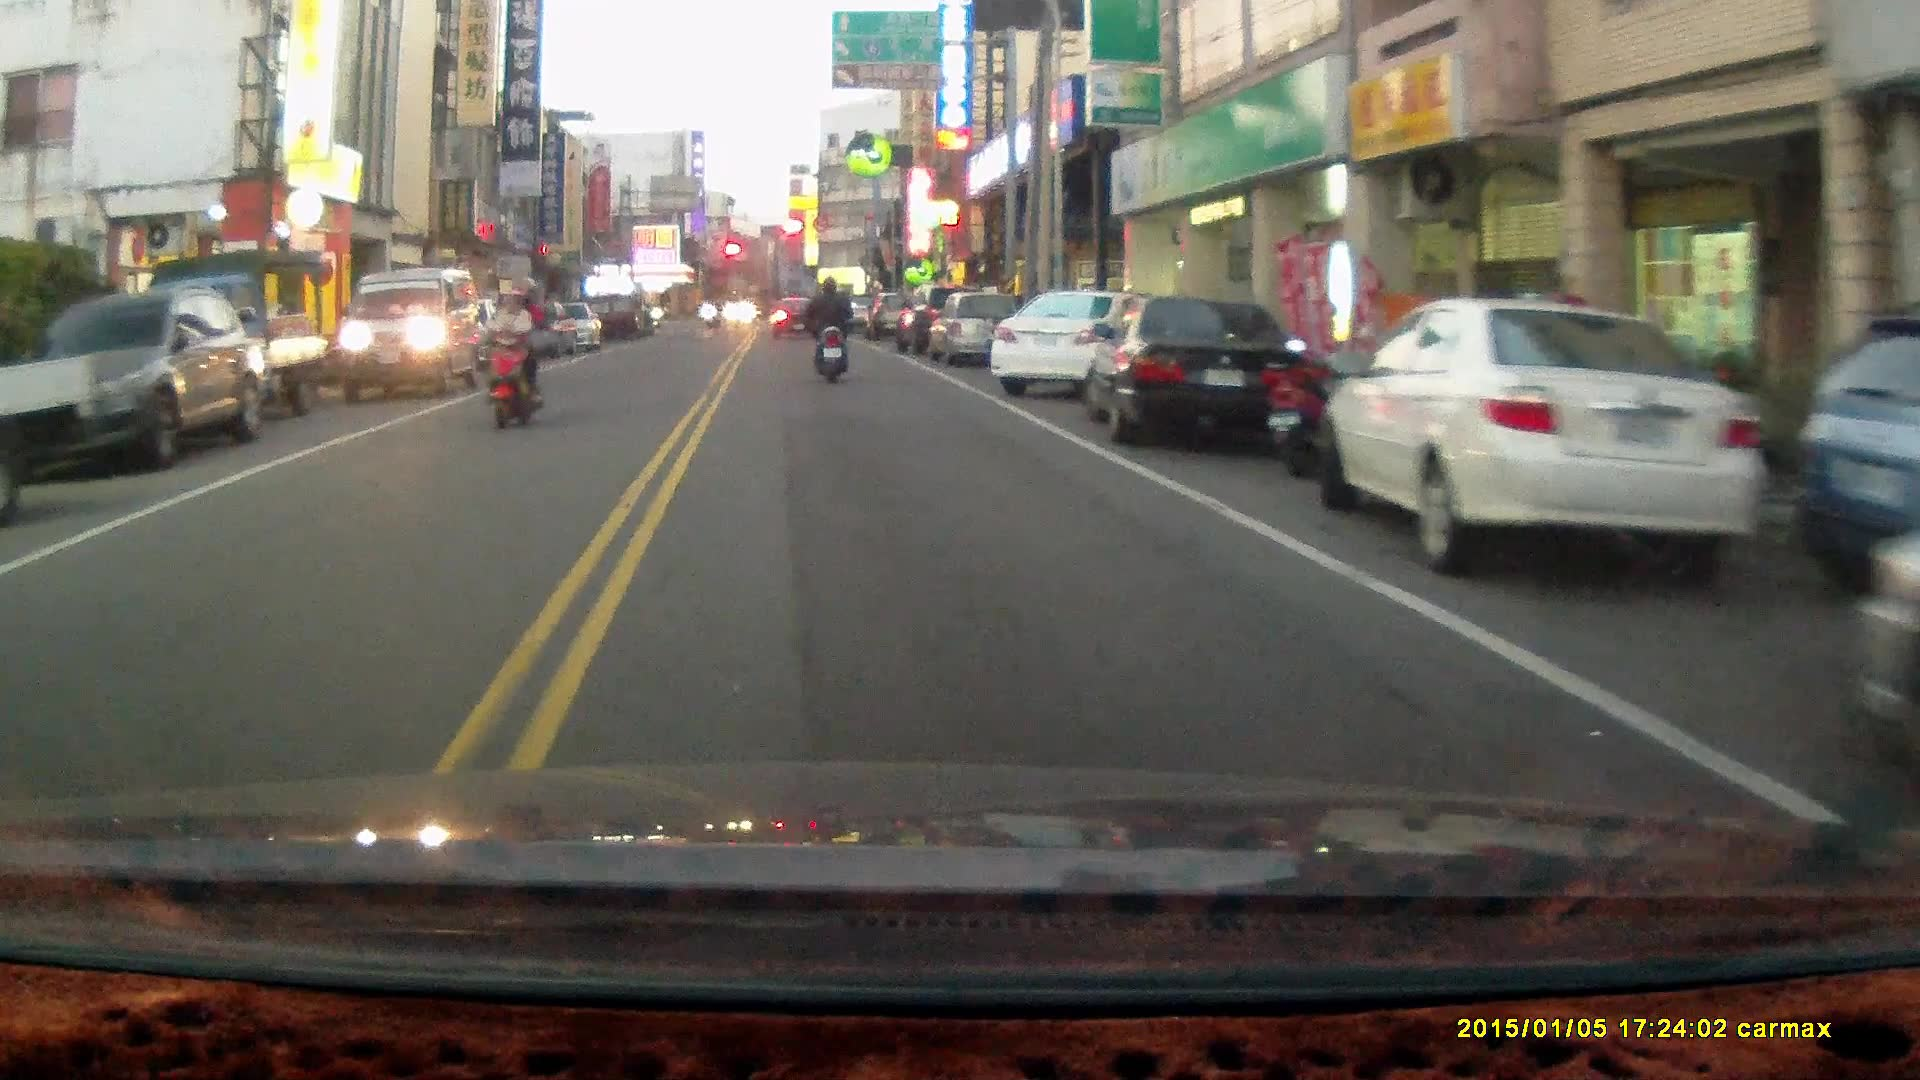rider: (482, 271, 543, 429), (805, 275, 851, 388)
vehicle: (1310, 298, 1798, 577), (16, 289, 255, 488), (120, 249, 330, 430), (1079, 297, 1300, 457), (985, 289, 1168, 400), (335, 266, 479, 400), (925, 289, 1027, 371)
